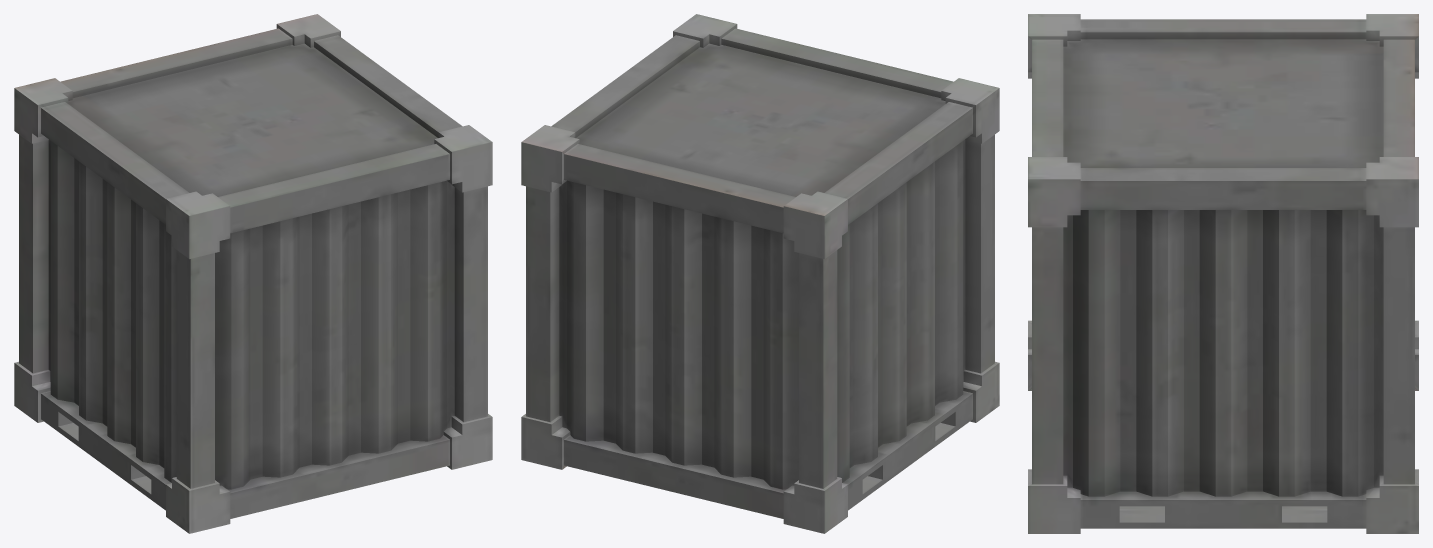
3 renders of one model, left to right at view 1: azimuth 30°, elevation 25°; view 2: azimuth 150°, elevation 25°; view 3: azimuth 270°, elevation 25°, orthographic. The views are drawn at different scales.
Bounding box in the file's own units: 0.9981 × 0.9998 × 0.9981.
1 material, 1 textured.
